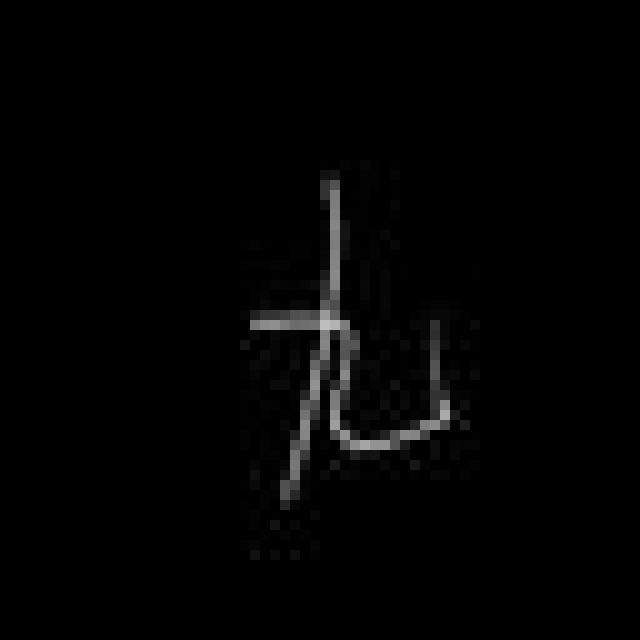9 -nine-: (243, 178, 460, 512)
